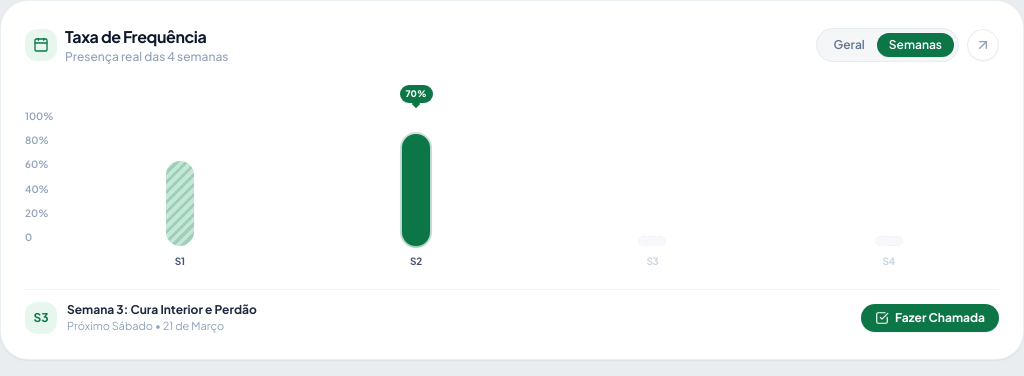
Test case: LessonsProgressCard Component › permite alternar para a visão Geral e exibe o engajamento médio
Click the button "Geral" at (849, 45), box [822,33,877,57]
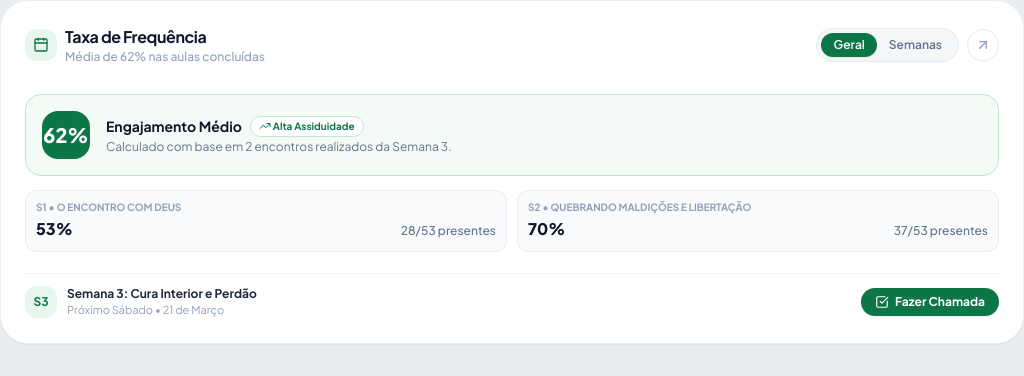
Expected: the heading "Engajamento Médio" is shown, [106,116,242,136]
Expected: the text "Alta Assiduidade" is shown, [250,116,364,137]
